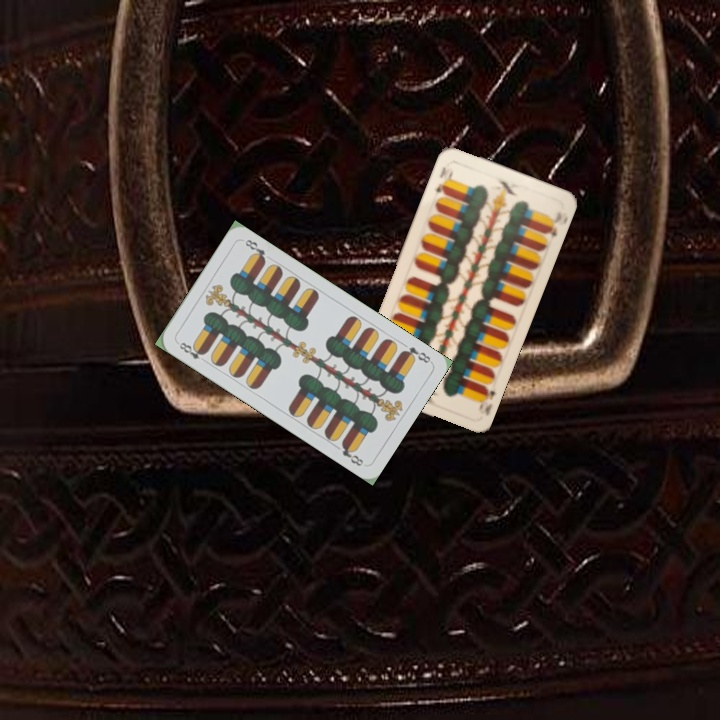E10: (475, 382, 499, 418), (431, 163, 456, 197)
E8: (173, 338, 208, 362), (397, 343, 433, 366)
